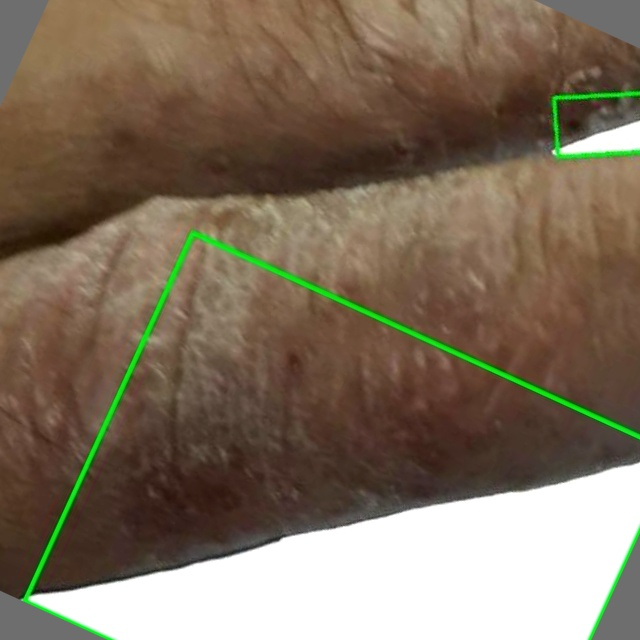Contact Dermatitis: (24, 232, 639, 639)
